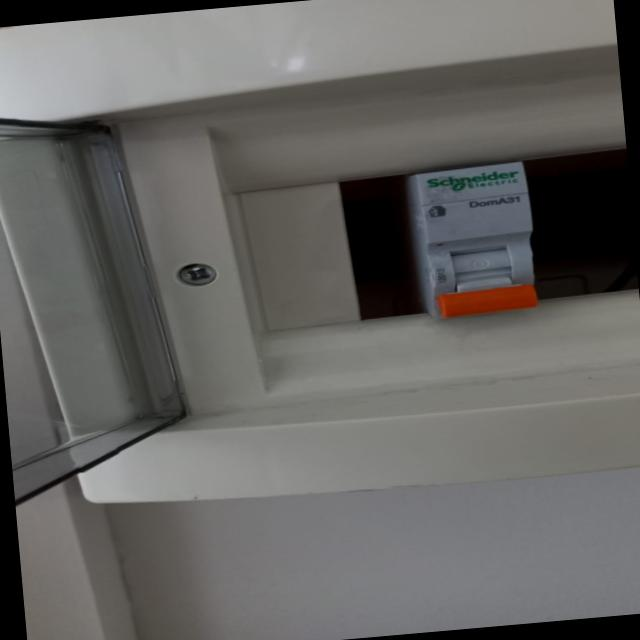Phillips: (173, 260, 220, 292)
